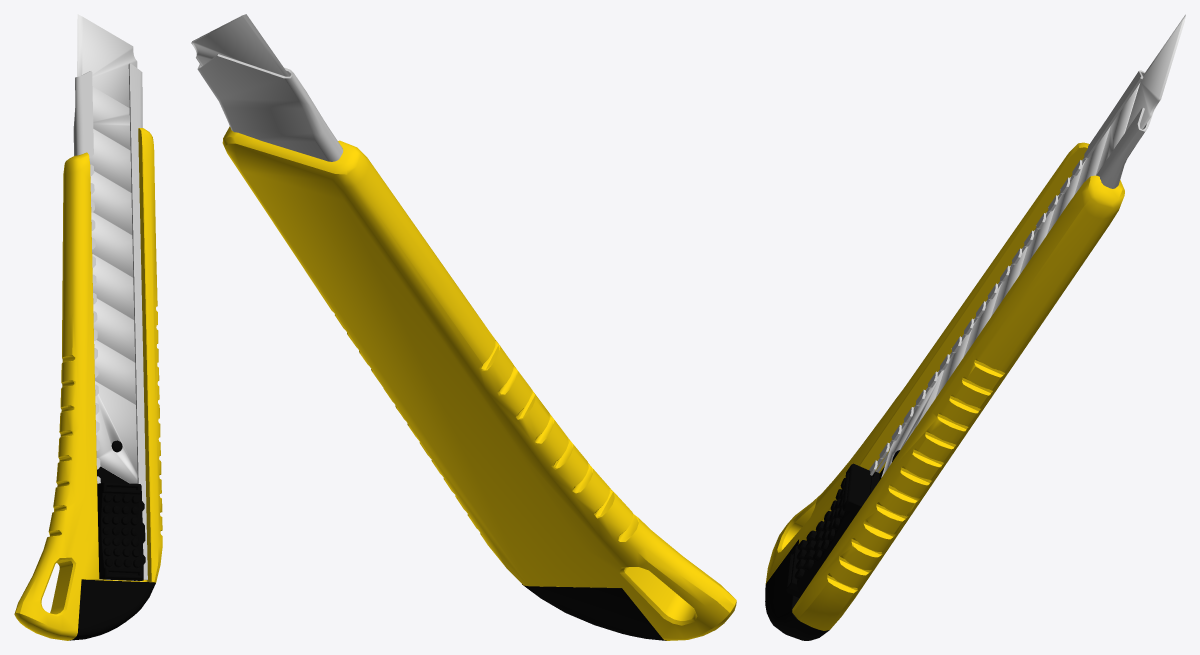
The picture shows the model from 3 angles, left to right: view 1: azimuth 30°, elevation 25°; view 2: azimuth 150°, elevation 25°; view 3: azimuth 270°, elevation 25°; orthographic projection. The views are drawn at different scales.
Parts seen in each view (by area): view 1: Cube.007; view 2: Cube.007; view 3: Cube.007.
Boxes of the visible parts, <box> form: Cube.007: <box>14,14,162,640</box>; Cube.007: <box>191,14,736,640</box>; Cube.007: <box>765,14,1185,640</box>.
Bounding box in the file's own units: 0.2612 × 0.5 × 0.2734.
